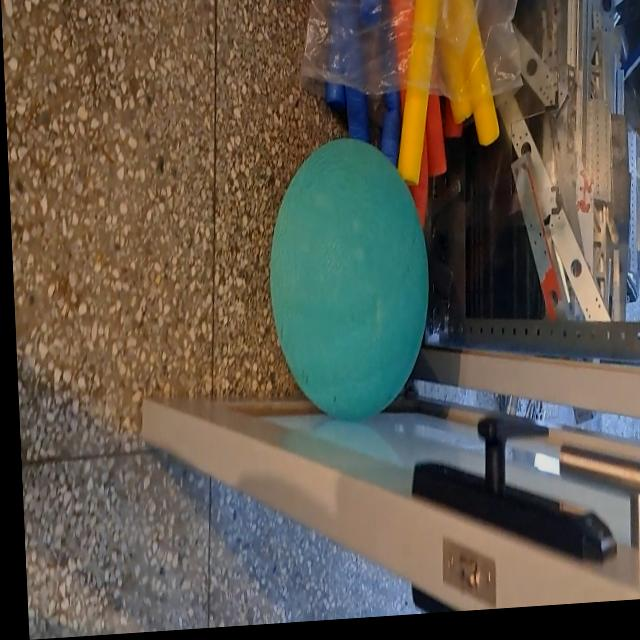ALGAE: (262, 127, 438, 432)
